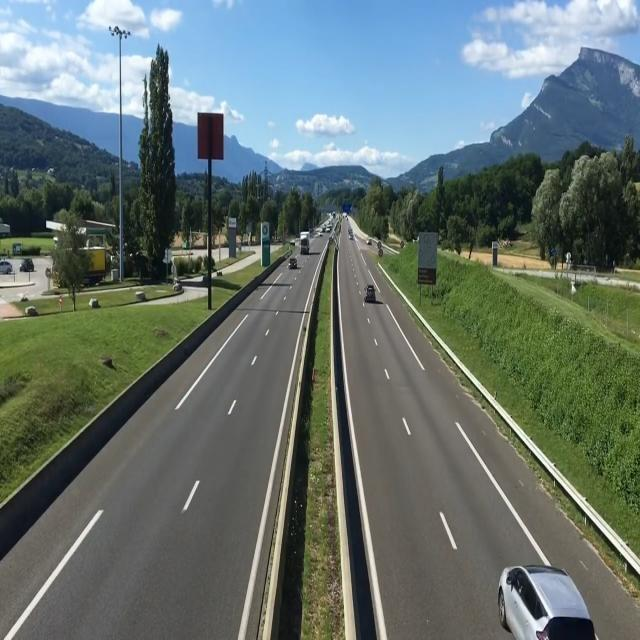Car: (498, 557, 595, 640), (364, 283, 376, 302), (287, 257, 298, 270)
Truck: (300, 230, 310, 255)
